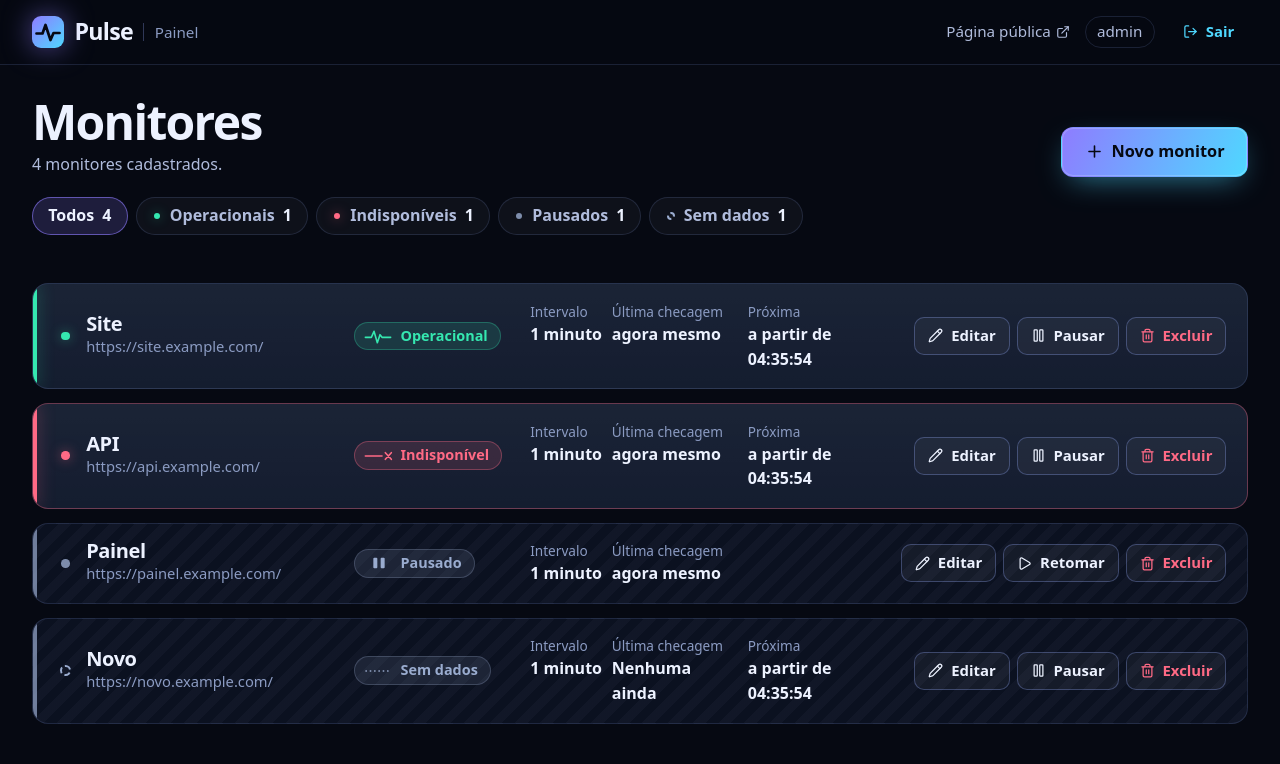
Test: sessão que acaba no meio do uso › 403 csrf: explica, recarrega a sessão (novo token) e a ação repetida funciona
Check: the element "Site" is shown, box 32,283 -> 1248,389
Click the button with aria-label "Pausar Site". click: (1068, 336)
box: 1017,317 -> 1118,355
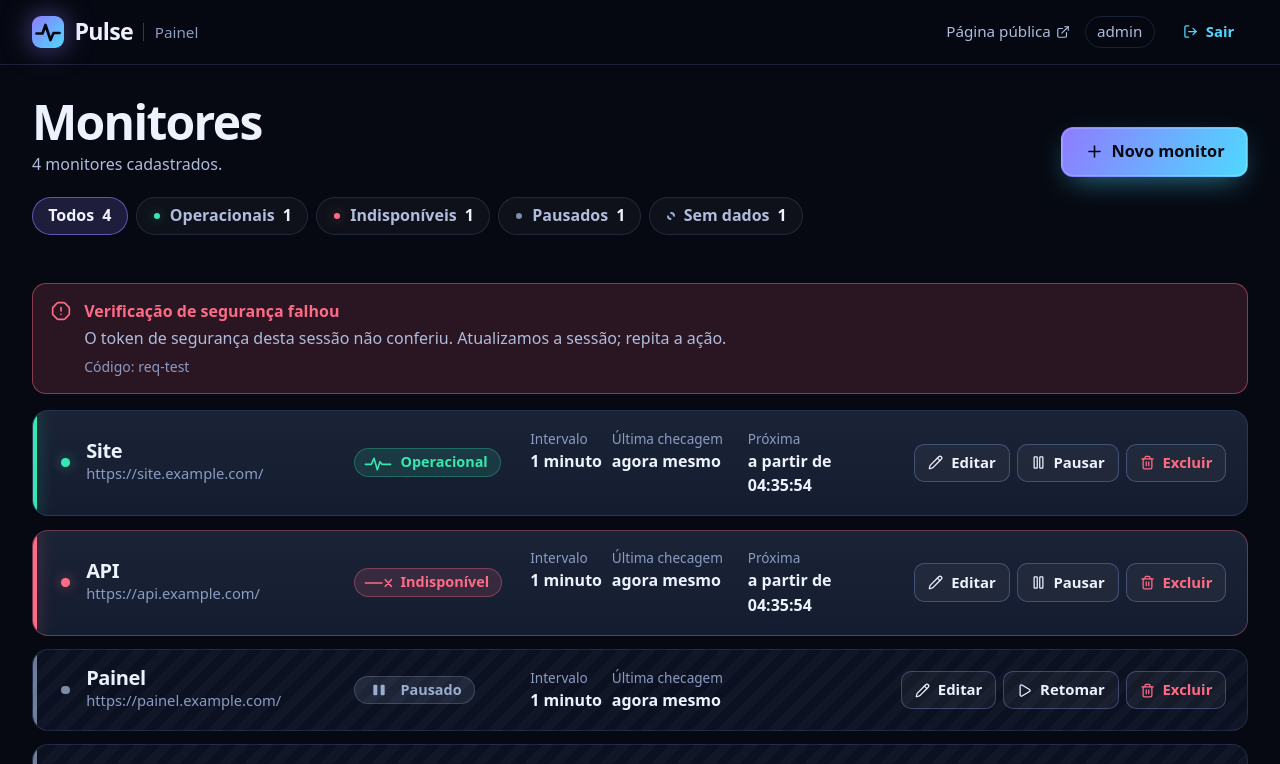
Check: the text "Verificação de segurança falhou" is shown, box 84,300 -> 339,322
Click the button with aria-label "Pausar Site". click: (1068, 463)
box: 1017,444 -> 1118,482
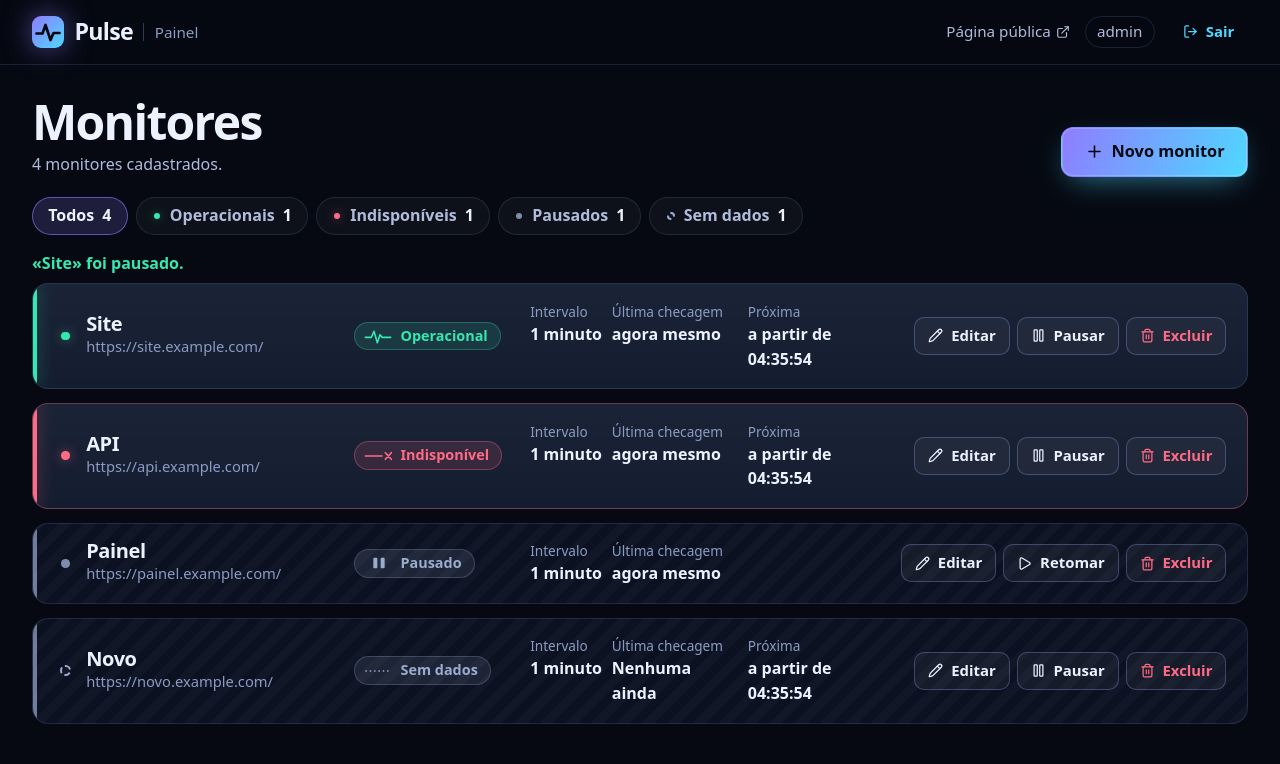
Check: the text "«Site» foi pausado." is shown, box 32,252 -> 184,274
